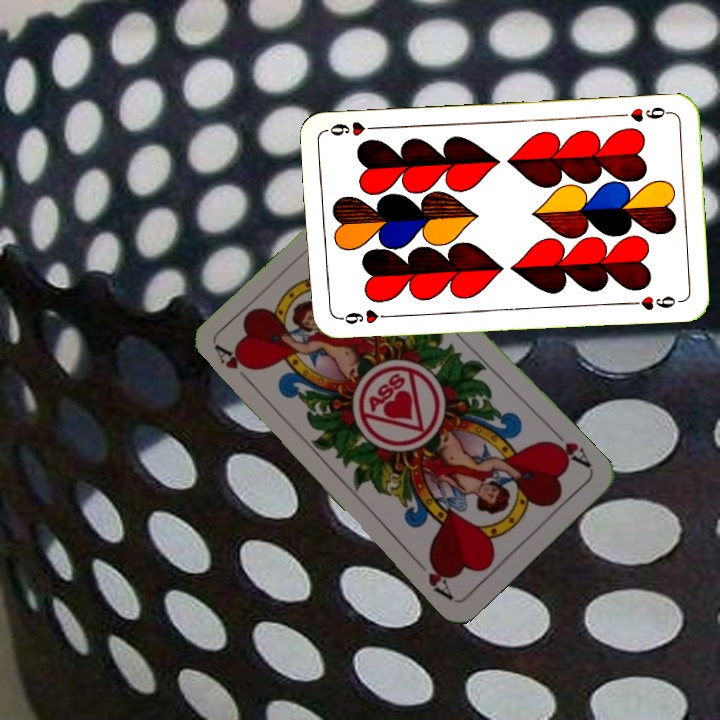H9: (614, 102, 673, 125), (334, 305, 394, 327)
HA: (543, 426, 595, 471), (211, 342, 258, 390)
